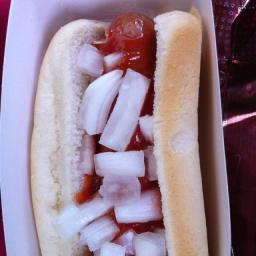hotdog: (106, 12, 156, 82)
